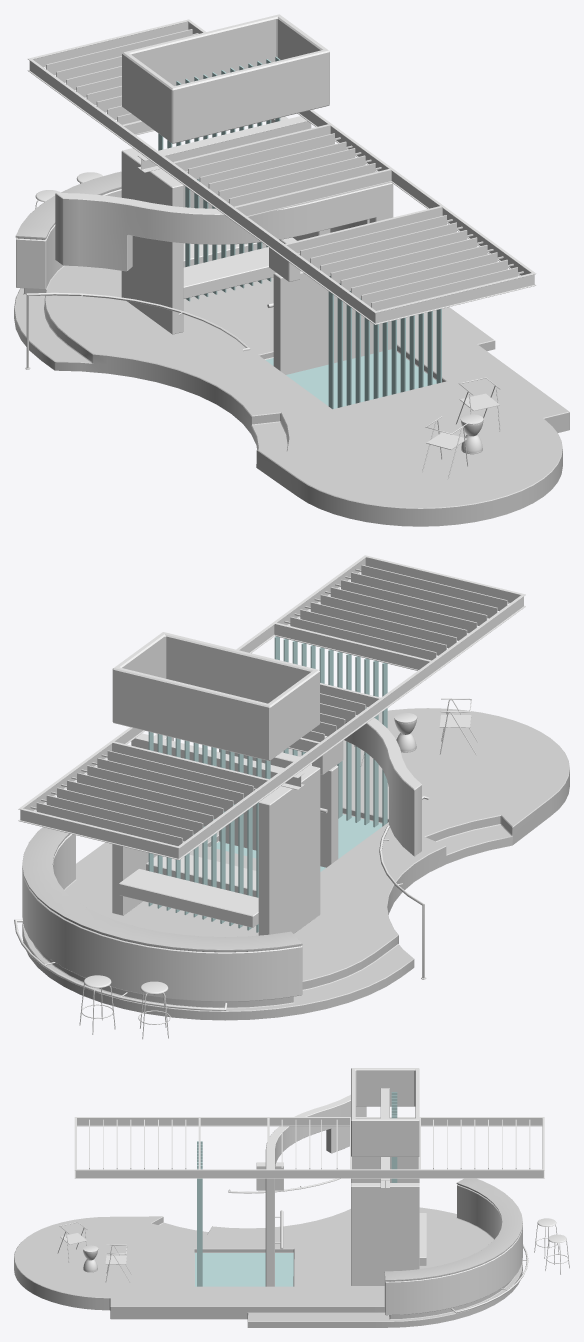
File: booth-new.glb
The picture shows the model from 3 angles, top to bottom: view 1: azimuth 30°, elevation 25°; view 2: azimuth 150°, elevation 25°; view 3: azimuth 270°, elevation 25°; orthographic projection. The views are drawn at different scales.
Visible parts, largest first — view 1: Line011; view 2: Line011; view 3: Line011.
Boxes of the visible parts, left/top/right/bottom form: Line011: left=14, top=14, right=569, bottom=526; Line011: left=14, top=555, right=569, bottom=1039; Line011: left=14, top=1068, right=569, bottom=1327.
Bounding box in the file's own units: 6.35 × 4.3 × 12.12.
